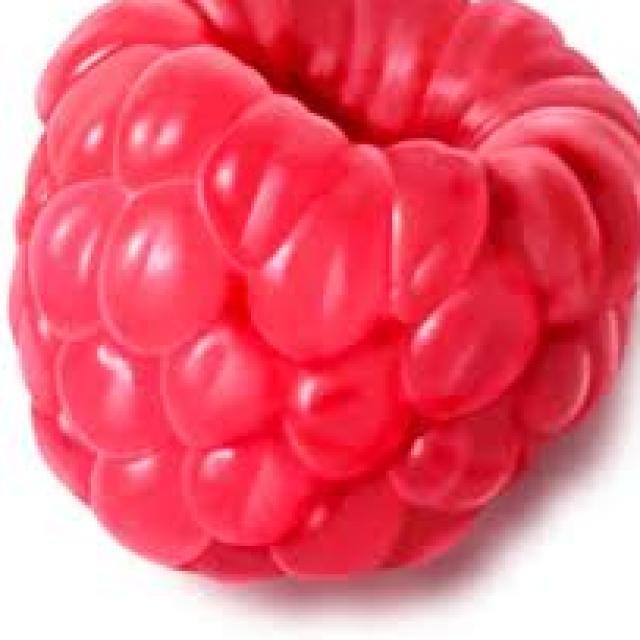raspberry: (22, 0, 640, 593)
